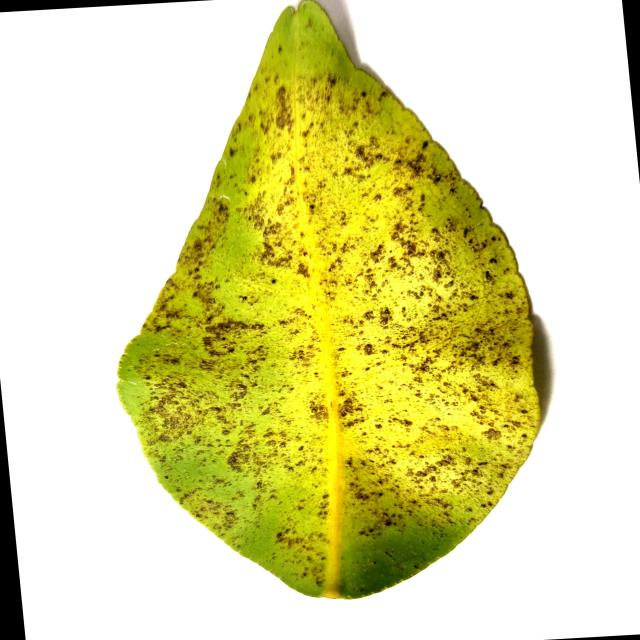melanose: (118, 0, 539, 598)
